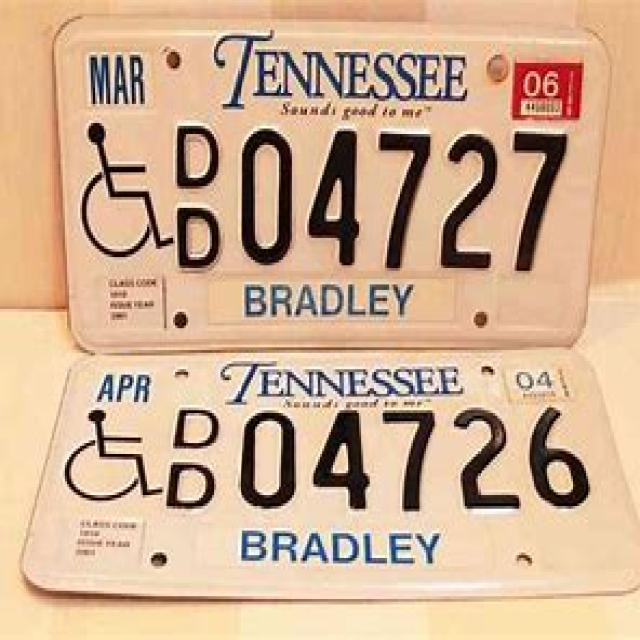car-handicap-placard: (84, 119, 177, 266), (62, 403, 168, 506)
